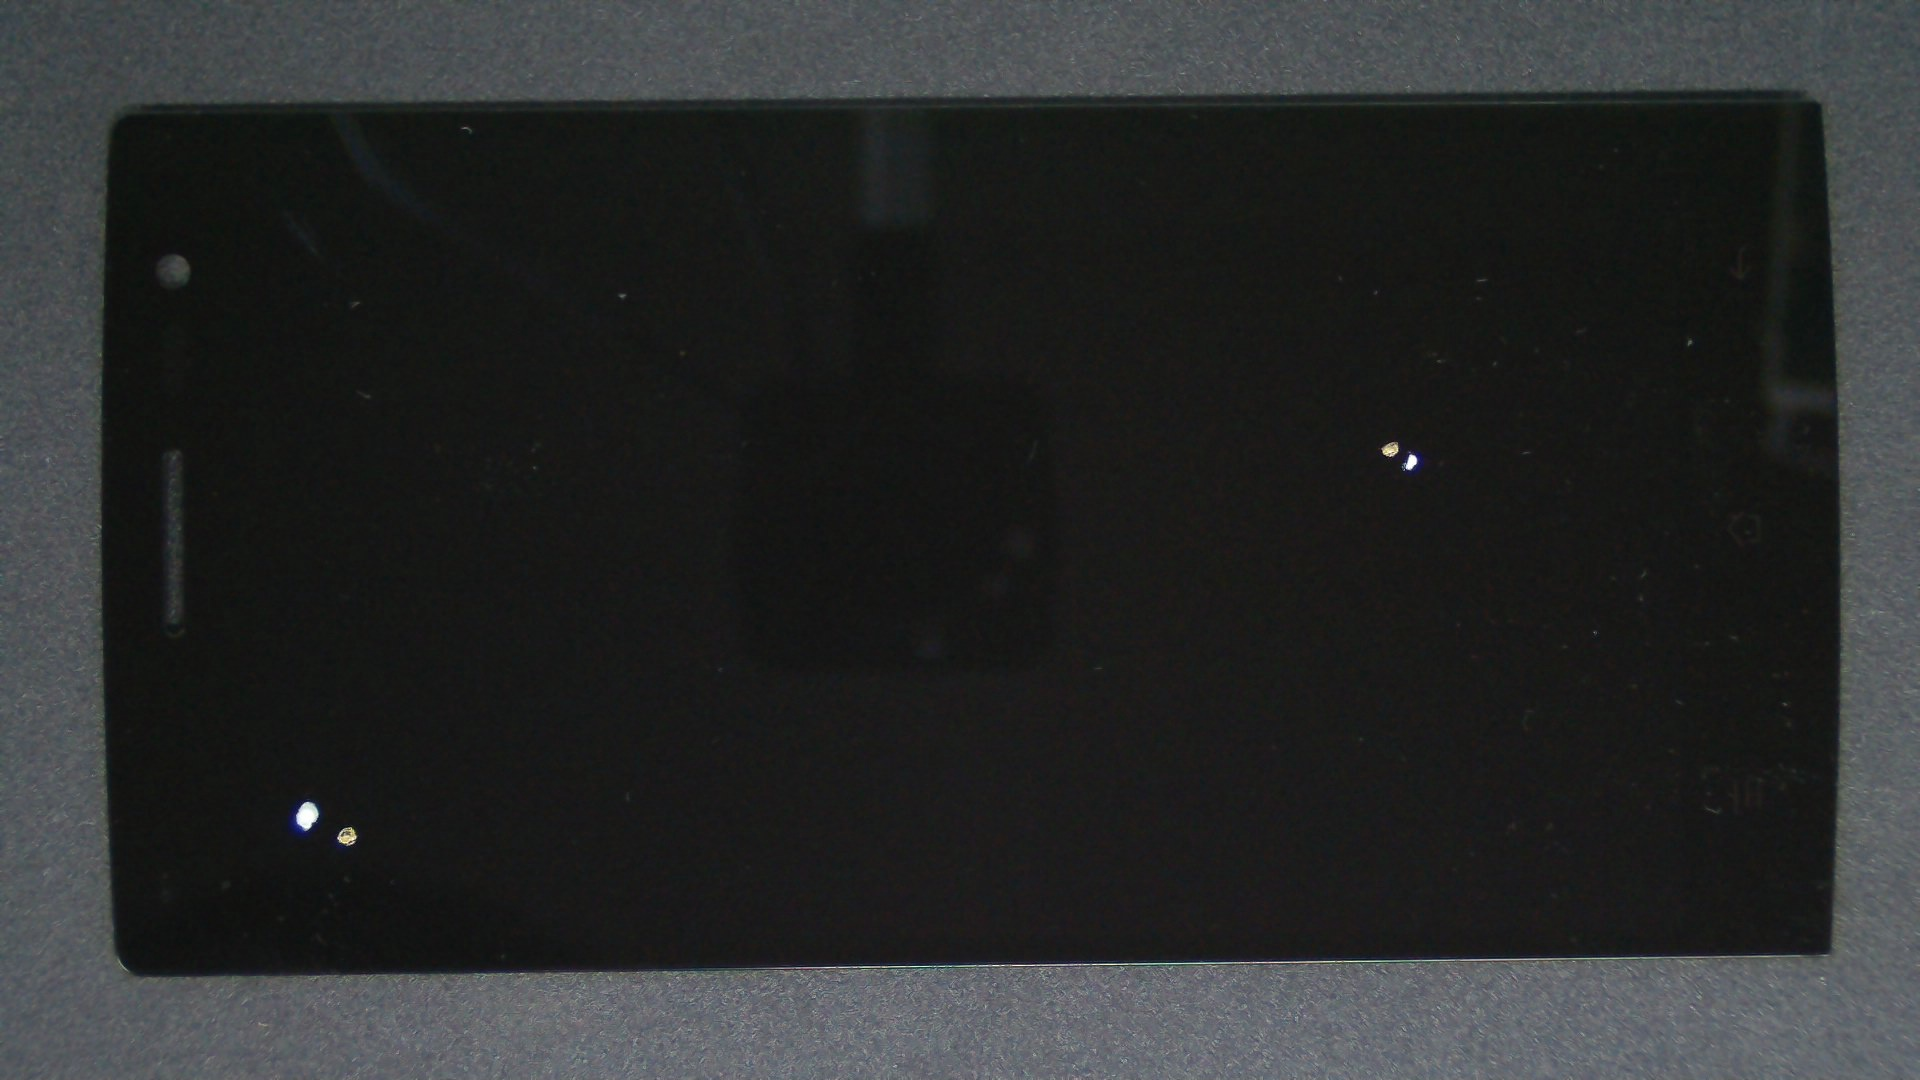oil: (705, 223, 1920, 674), (696, 219, 1920, 661), (174, 411, 521, 1080), (153, 400, 459, 1080)
